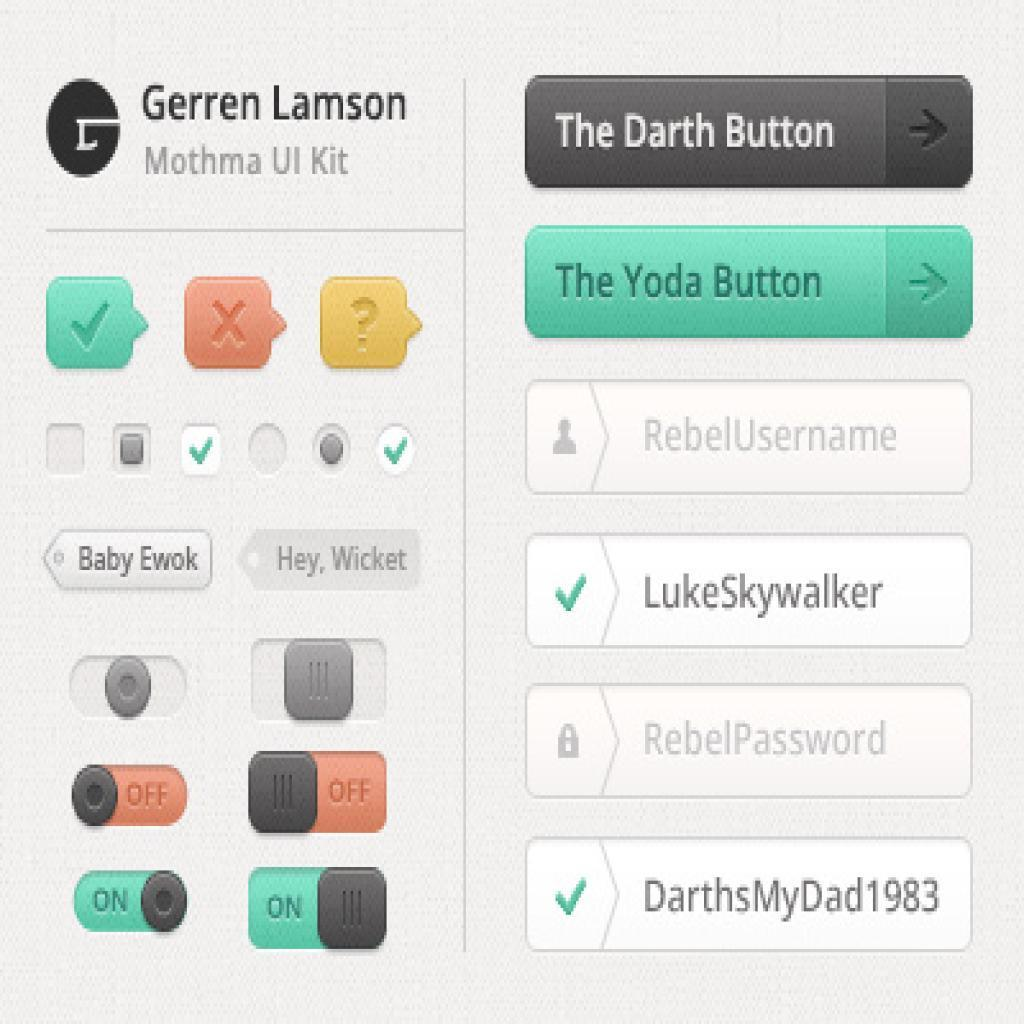button: (526, 76, 975, 191), (525, 225, 974, 339)
checkbox: (182, 426, 226, 477), (46, 424, 87, 477), (114, 425, 154, 478)
input: (524, 532, 974, 649), (526, 379, 975, 495), (527, 838, 974, 954), (524, 684, 973, 799)
radio: (374, 425, 417, 479), (248, 423, 289, 476), (312, 424, 353, 477)
switch: (248, 751, 388, 834), (248, 868, 387, 951), (252, 639, 389, 722), (72, 657, 188, 720), (72, 765, 190, 826), (74, 871, 188, 934)
